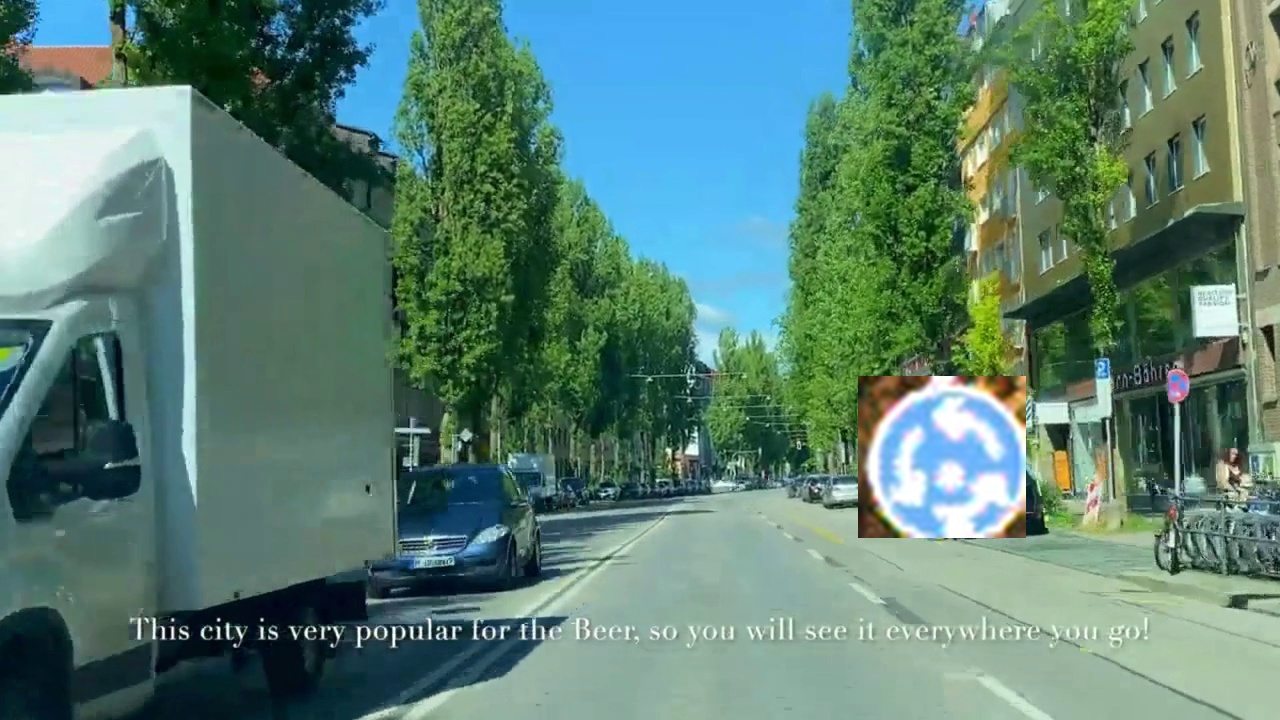Roundabout: (858, 376, 1026, 538)
